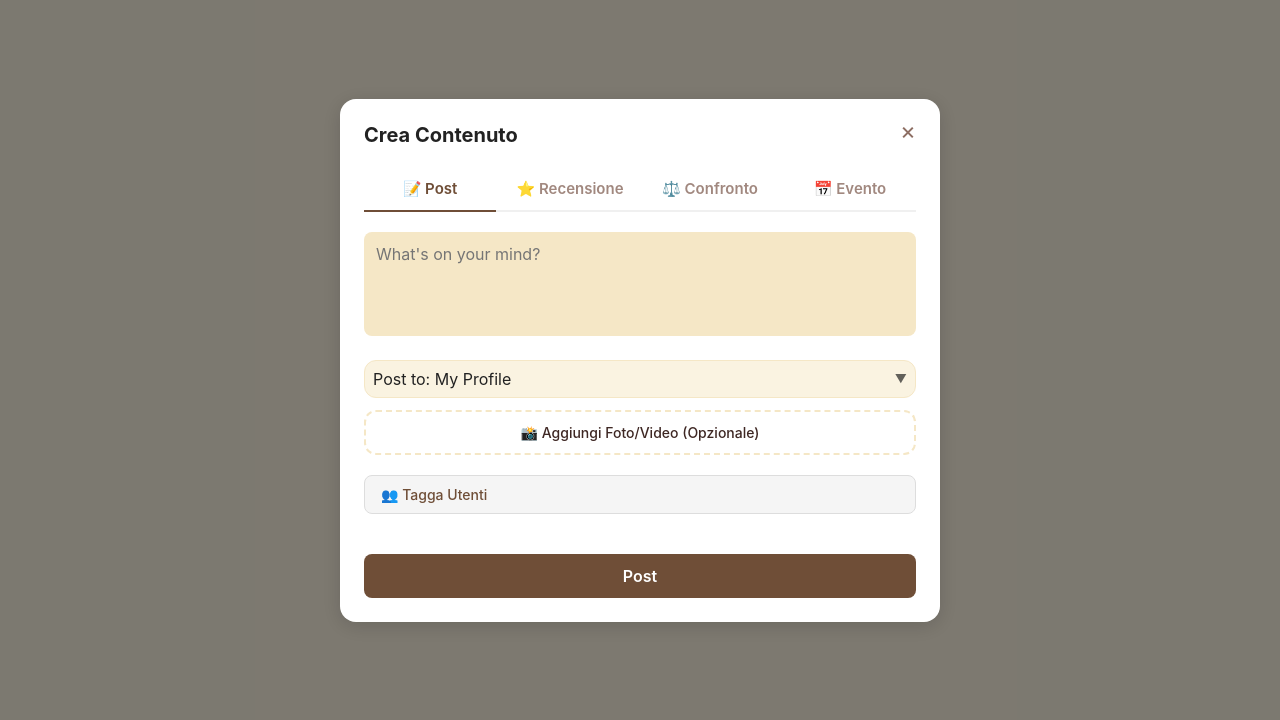
Test: CreatePostModal › opens and closes community dropdown
// Open dropdown
Click the text "Post to: My Profile" at {"x": 442, "y": 378}, box left=373, top=368, right=511, bottom=388
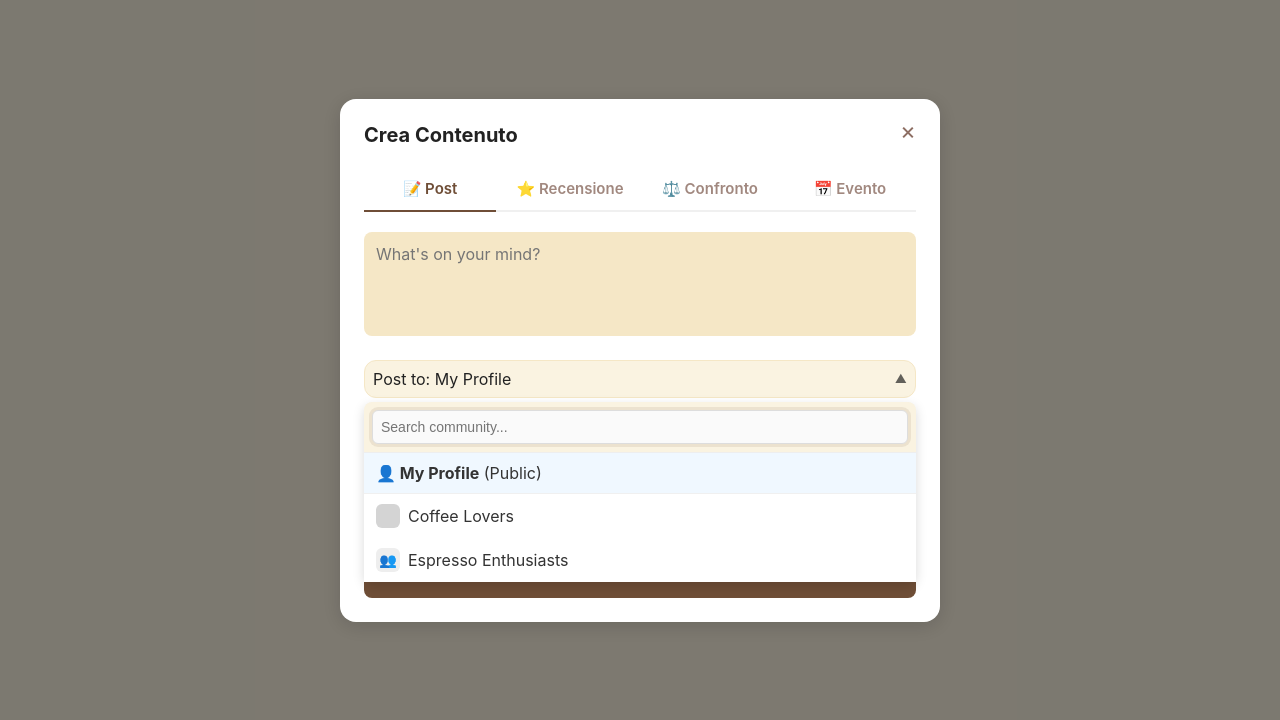
Now the field with placeholder "Search community..." is shown, box left=372, top=410, right=908, bottom=444
Now the text "Coffee Lovers" is shown, box left=408, top=506, right=514, bottom=526
Now the text "Espresso Enthusiasts" is shown, box left=408, top=550, right=568, bottom=570
